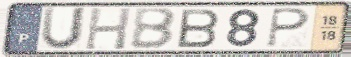8: (225, 8, 261, 49)
B: (129, 7, 178, 50), (176, 8, 222, 49)
H: (83, 6, 134, 51)
P: (265, 7, 312, 49)
U: (38, 6, 90, 52)
